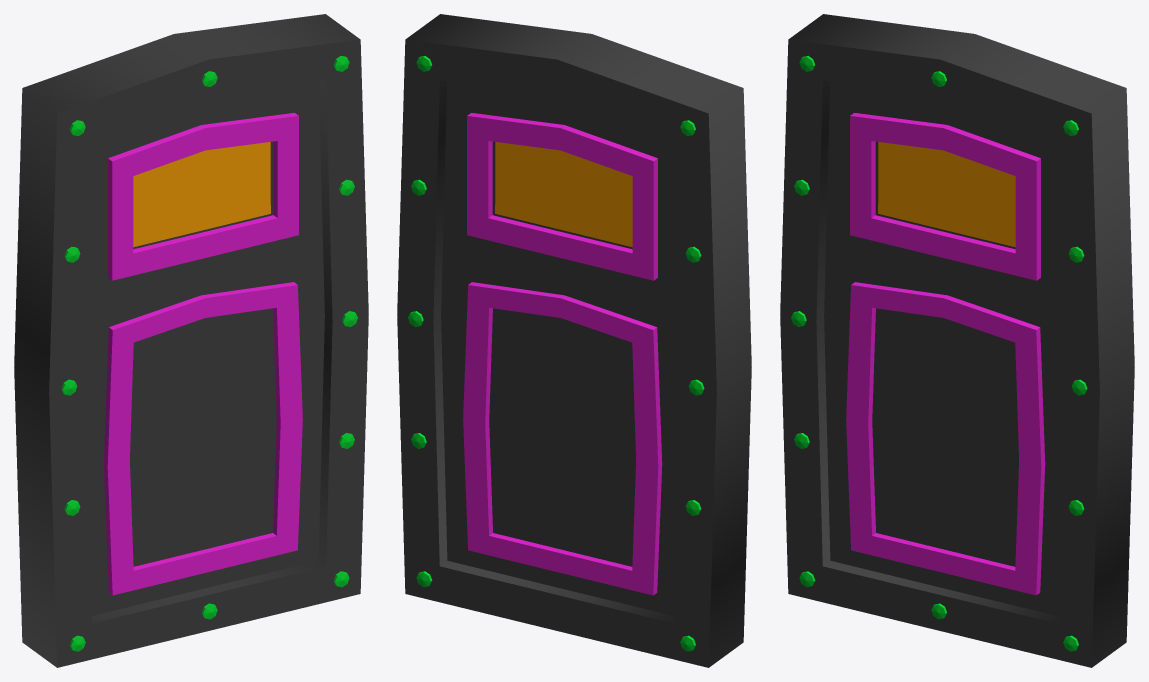
File: SM_ENV_DOOR_01.FBX
The picture shows the model from 3 angles, left to right: view 1: azimuth 30°, elevation 25°; view 2: azimuth 150°, elevation 25°; view 3: azimuth 330°, elevation 25°; orthographic projection.
Visible parts, largest first — view 1: door_LP; view 2: door_LP; view 3: door_LP.
Part boxes in pixels (box(x1,y1,x2,y2)): door_LP: box(14, 14, 368, 667); door_LP: box(397, 14, 751, 667); door_LP: box(780, 14, 1134, 667).
Size of the model in its own units: 121 by 206 by 25.8.
